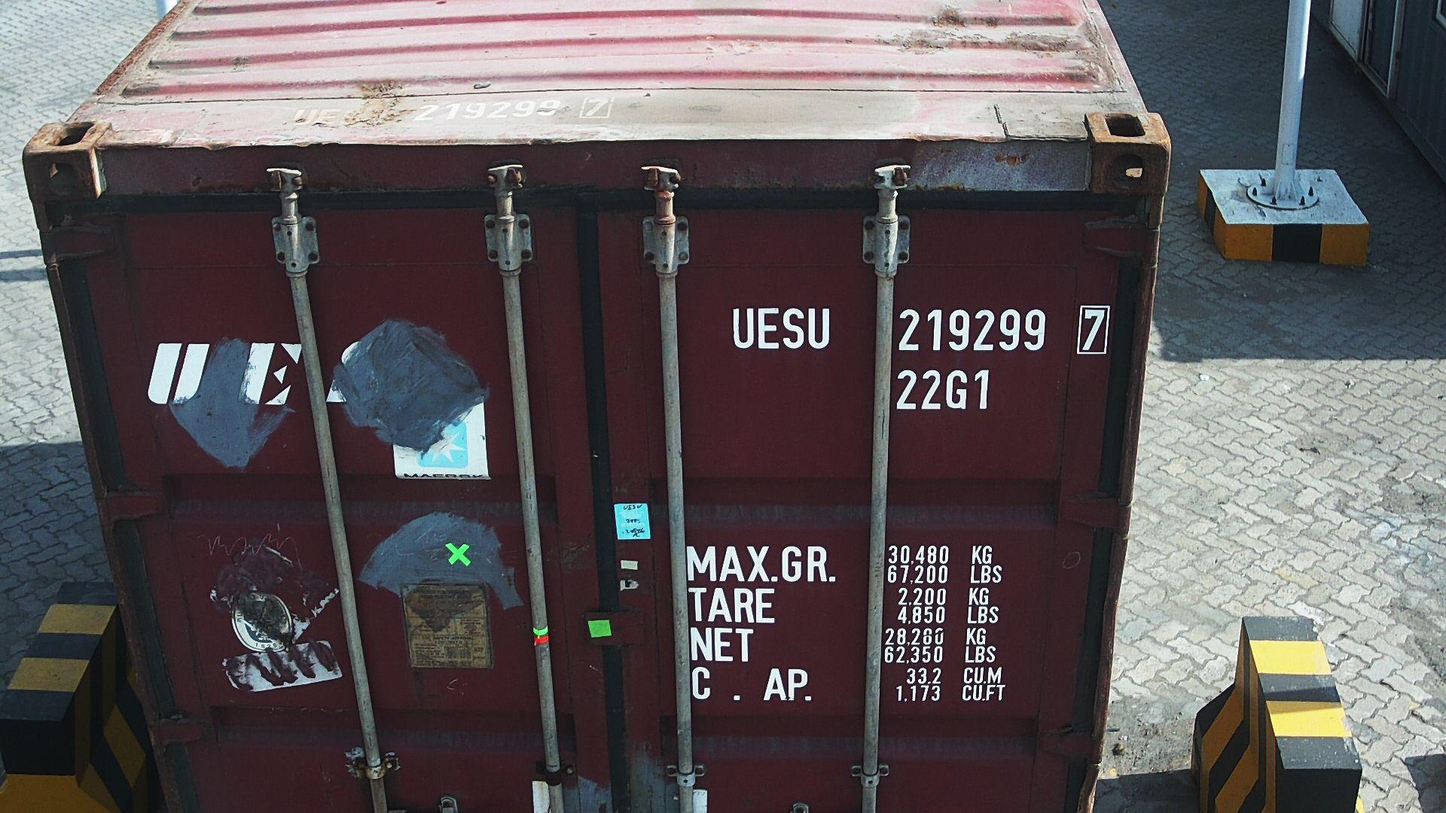container-numbers: (728, 303, 1115, 360), (891, 366, 994, 413)
